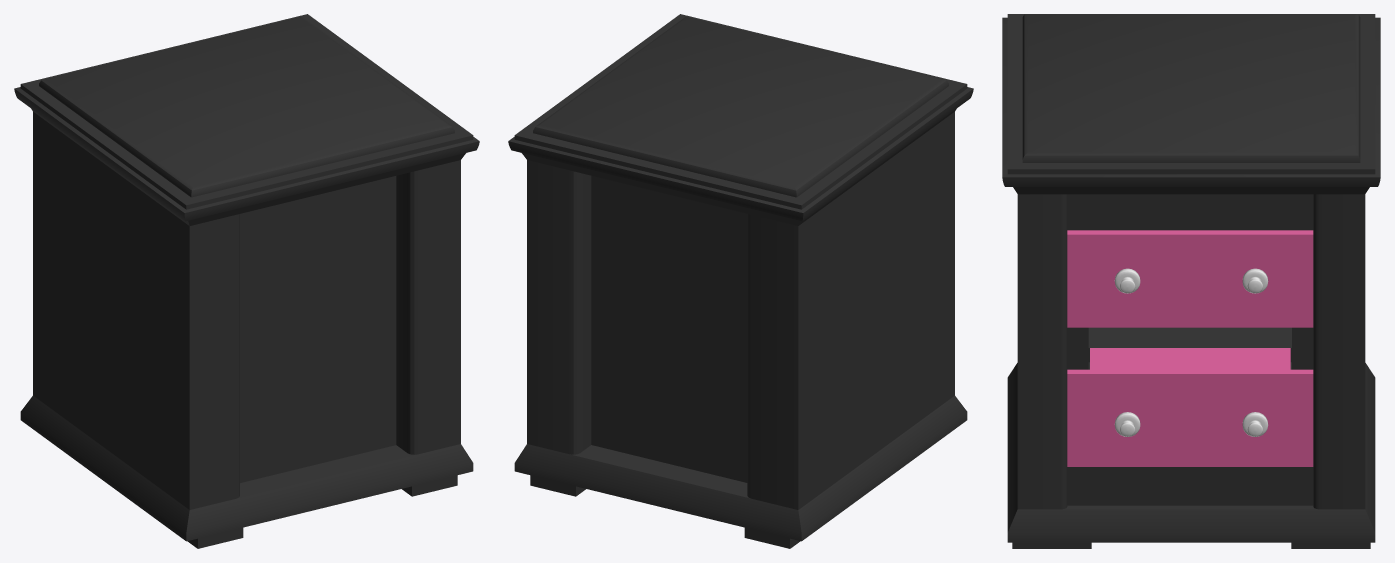
Rendered from bedsidedrawer3.fbx.
3 views of the same model, side by side, from view 1: azimuth 30°, elevation 25°; view 2: azimuth 150°, elevation 25°; view 3: azimuth 270°, elevation 25° (orthographic). The views are drawn at different scales.
Parts seen in each view (by area): view 1: Down; view 2: Down; view 3: Down, draws.
Boxes of the visible parts, box(x1,y1,x2,y2) form: Down: box(14, 14, 479, 548); Down: box(508, 14, 973, 548); Down: box(1002, 14, 1380, 548); draws: box(1067, 230, 1313, 466).
Bounding box in the file's own units: 222 × 251 × 218.
